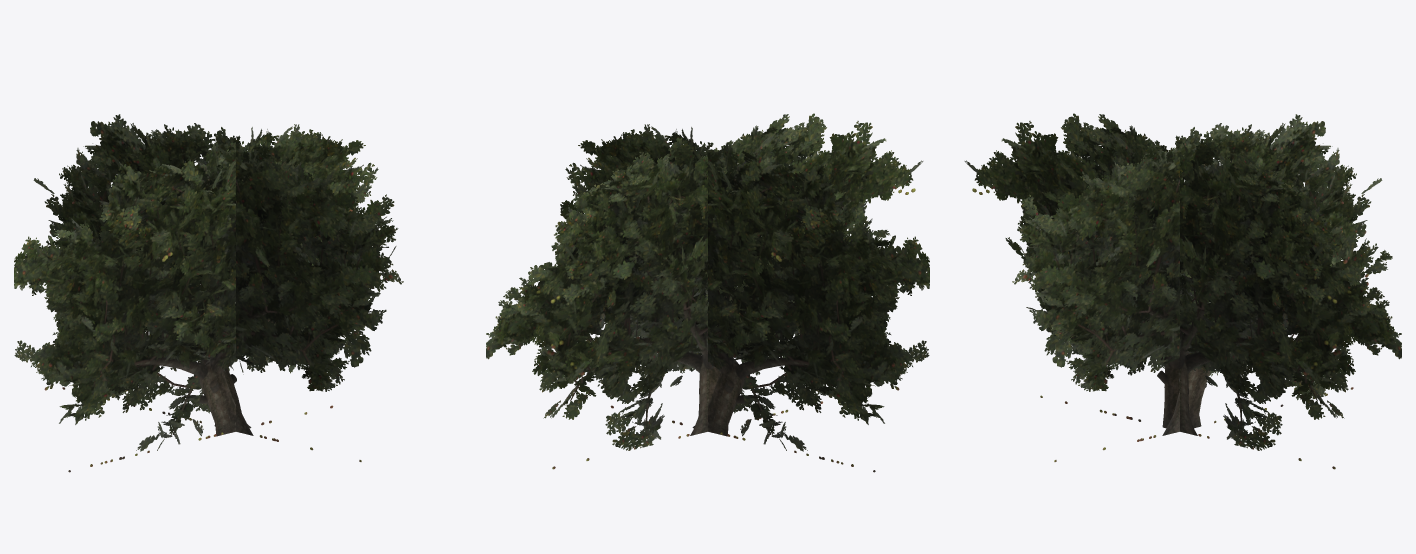
Rendered from jablon_3_daleko.glb.
3 views of the same model, side by side, from view 1: azimuth 30°, elevation 25°; view 2: azimuth 150°, elevation 25°; view 3: azimuth 270°, elevation 25° (orthographic).
Visible parts, largest first — view 1: jablon_3_daleko; view 2: jablon_3_daleko; view 3: jablon_3_daleko.
Part boxes in pixels (x1,y1,x2,y2): jablon_3_daleko: (14,114,403,472); jablon_3_daleko: (486,113,929,472); jablon_3_daleko: (964,113,1401,469).
Size of the model in its own units: 9.09 by 6.06 by 7.87.
Materials: 3 (3 with a texture image).
